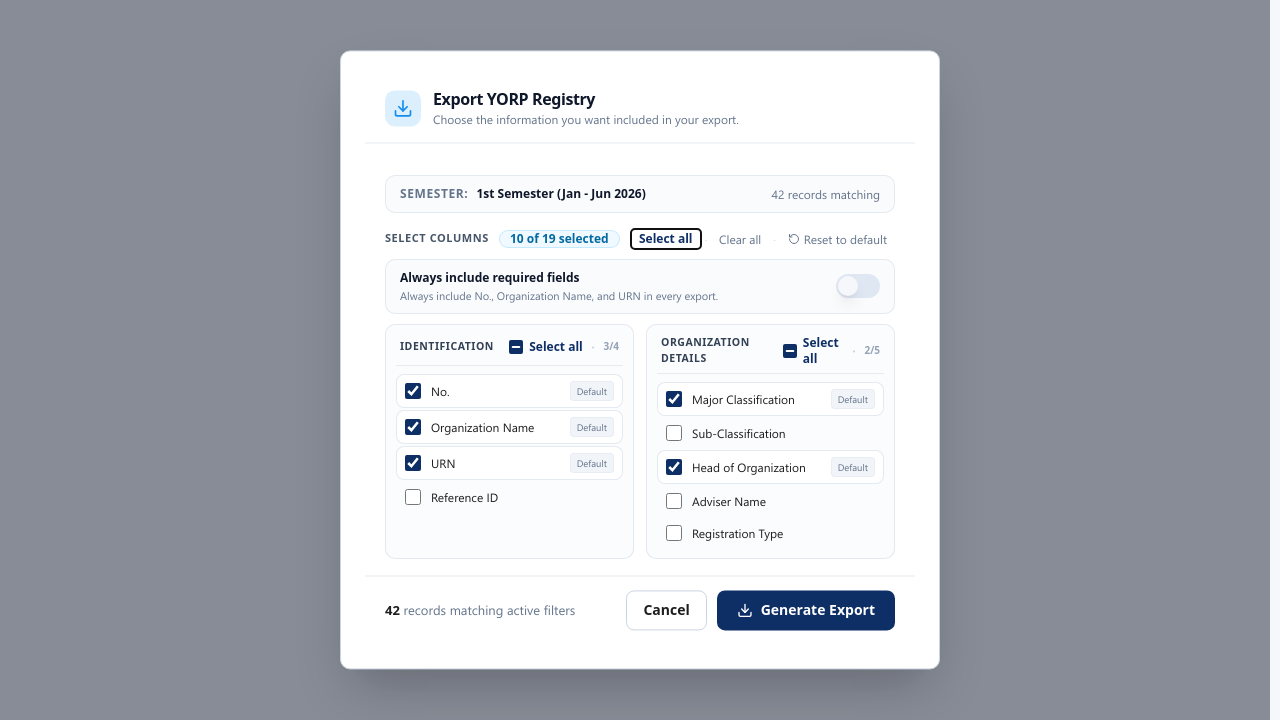
Test case: YorpRegistryExportDialog Per-Section Controls & Required Fields Option › I. Required mode + Section deselect: clears optional fields in that section but preserves required fields
The width and height of the screenshot is (1280, 720).
# Enable required mode
What coordinates should you click on to do the following:
click the switch named "always include required fields"
I would click on:
 (858, 286)
Its box is [836,274,880,298].
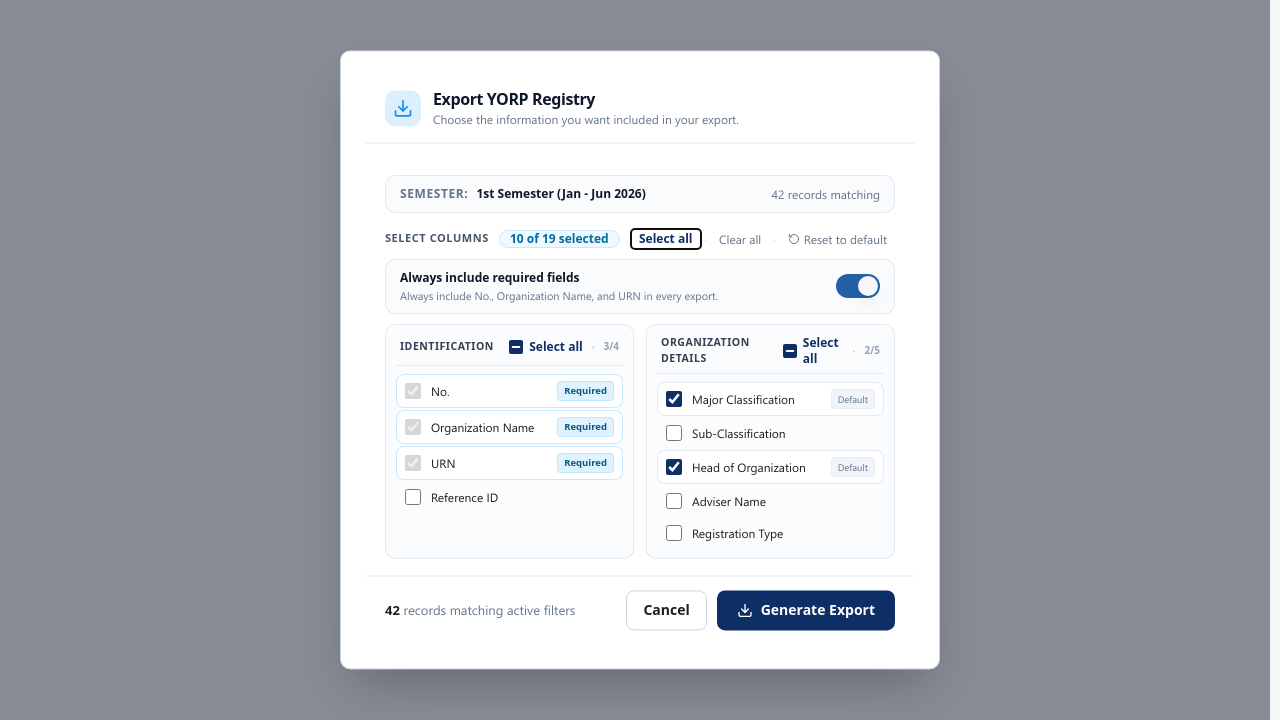
What coordinates should you click on to do the following:
click the checkbox named "select all identification columns"
I would click on:
 (516, 347)
Its box is [509,340,523,354].
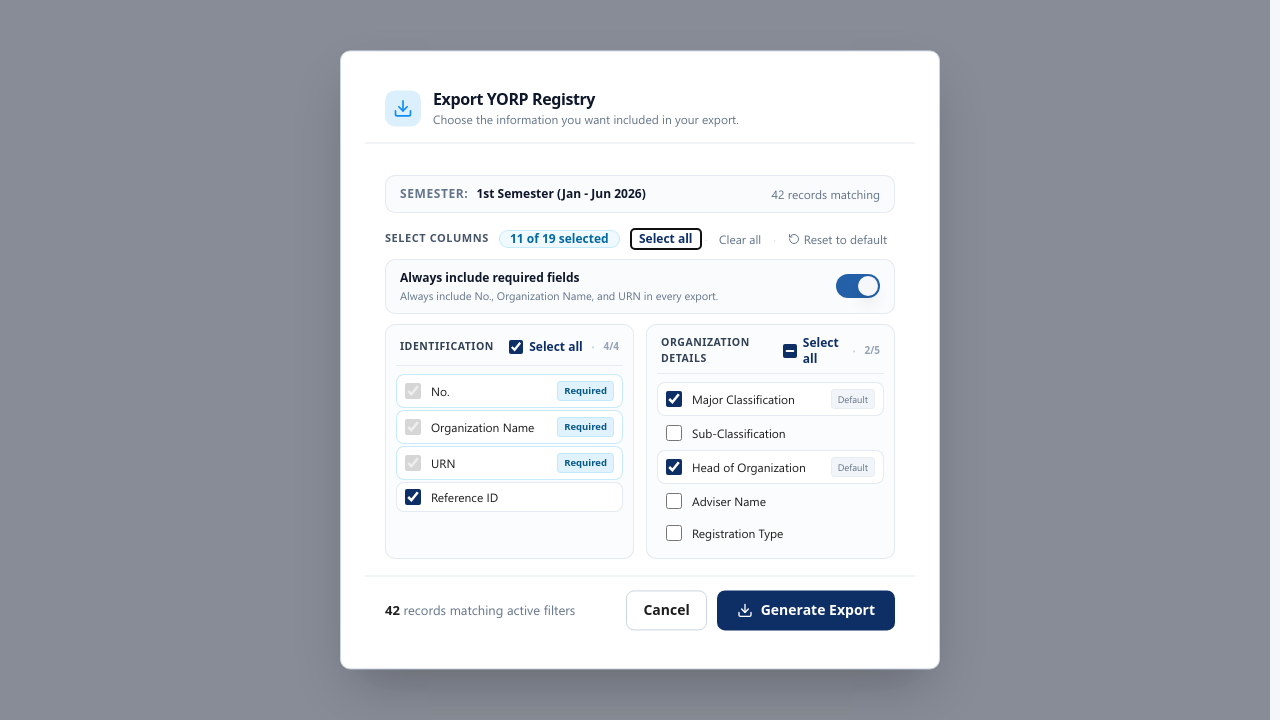
Expected: the checkbox named "select all identification columns" is checked
Expected: the text "4/4" is shown, [603,340,619,354]
# Now click section control again to deselect
What coordinates should you click on to do the following:
click the checkbox named "select all identification columns"
I would click on:
 (516, 347)
Its box is [509,340,523,354].
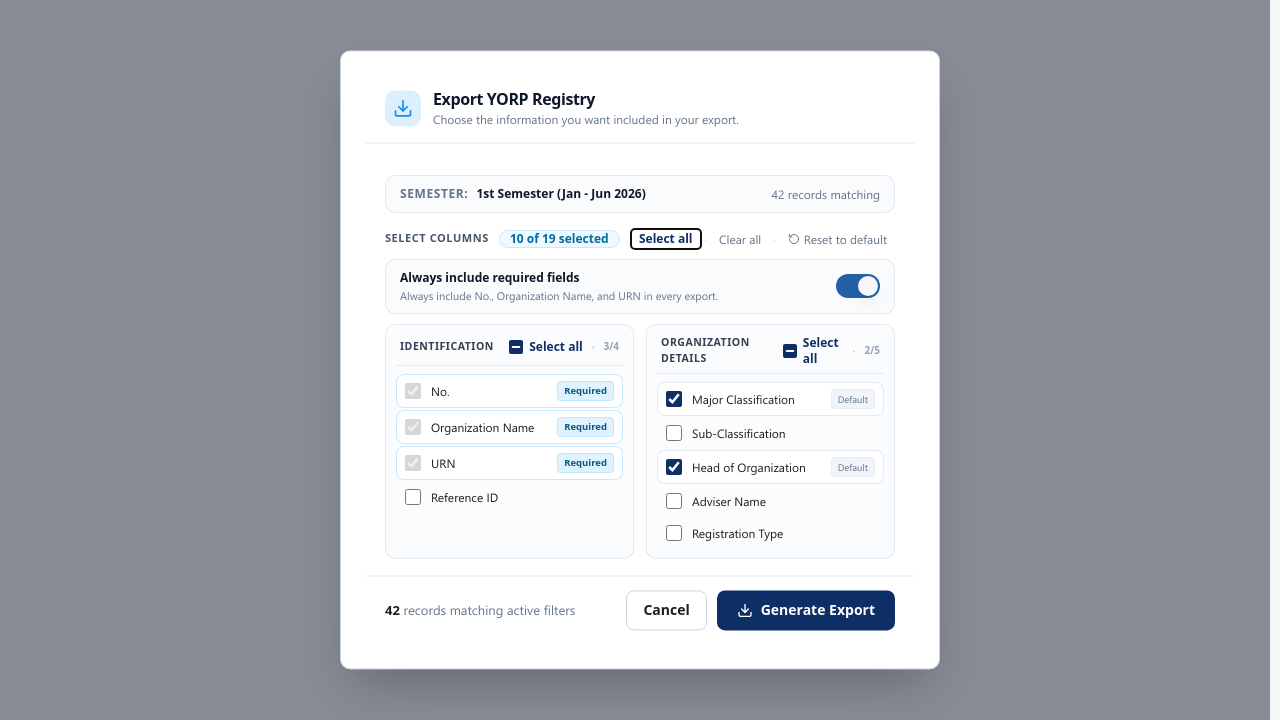
Expected: the checkbox labelled "No." is checked, [405,383,421,399]
Expected: the text "3/4" is shown, [603,340,619,354]
Expected: the checkbox labelled "Reference ID" is not checked, [405,490,421,506]
